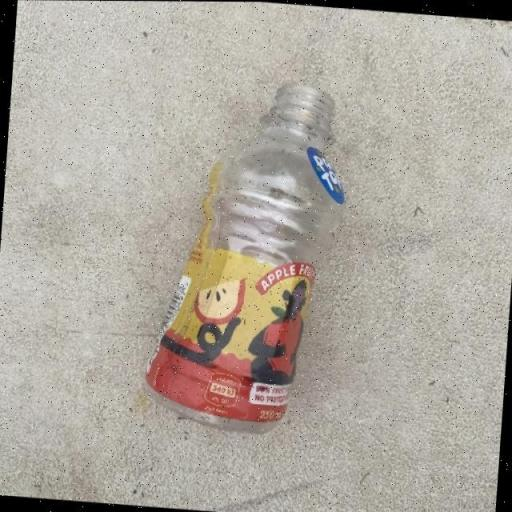plastic: (138, 70, 353, 439)
